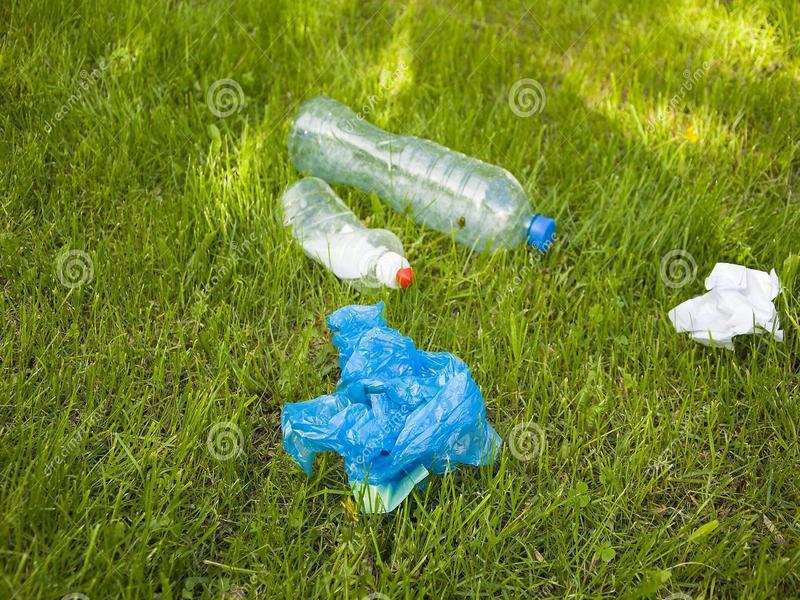bottle: (278, 85, 567, 256), (263, 173, 427, 292)
paper: (663, 250, 794, 356)
plastic: (269, 297, 507, 516)
